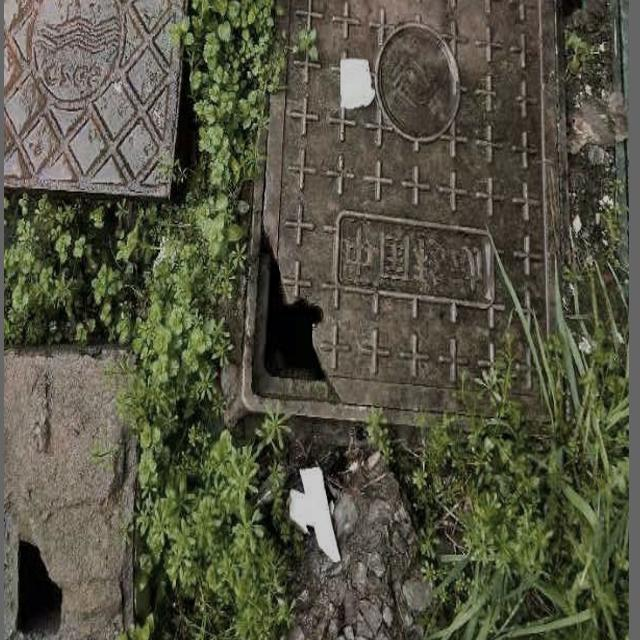broke: (241, 0, 560, 433)
